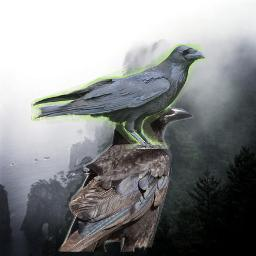Crow: (58, 96, 194, 252), (31, 44, 207, 149)
